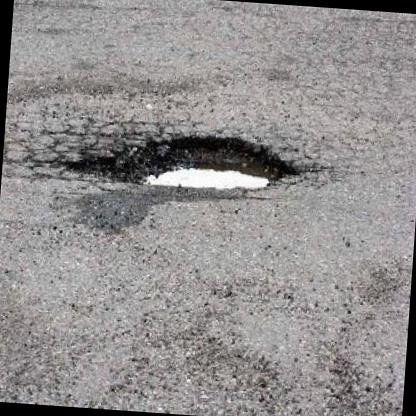pothole: (61, 117, 299, 200)
